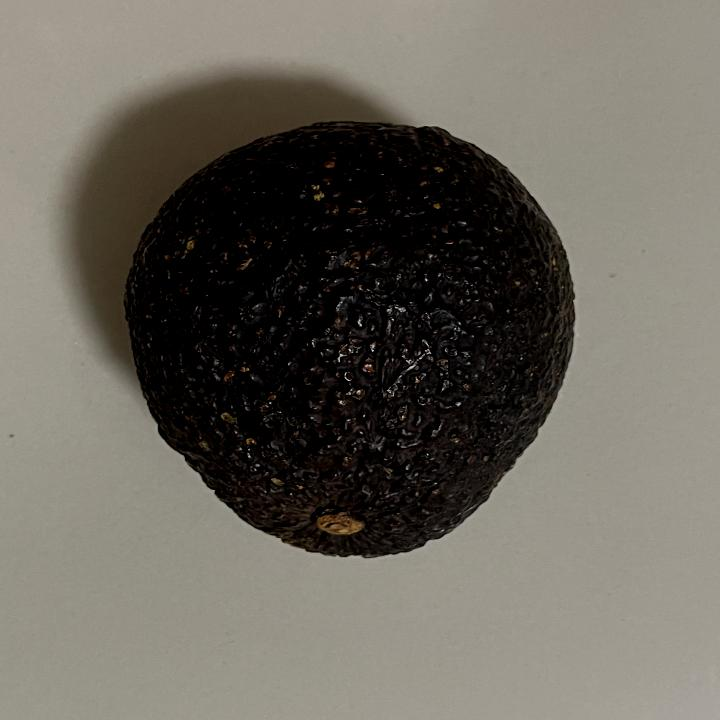Level3: (114, 114, 588, 566)
